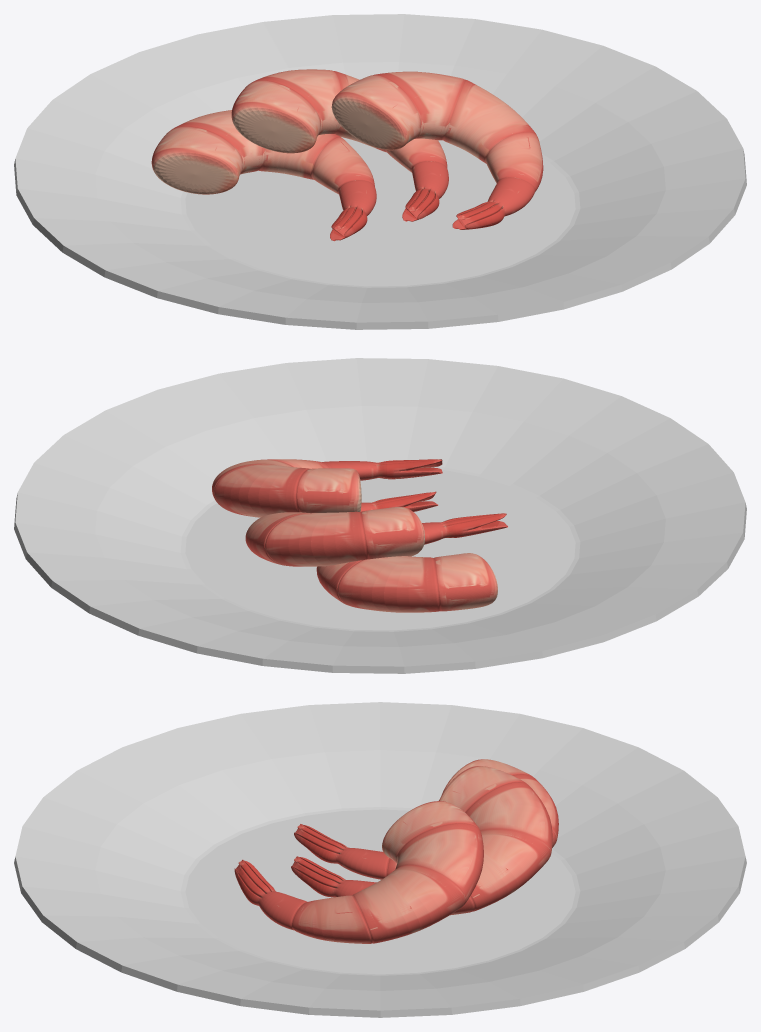
The model's file is grilled_trimmed_shrimp.fbx.
The picture shows the model from 3 angles, top to bottom: view 1: azimuth 30°, elevation 25°; view 2: azimuth 150°, elevation 25°; view 3: azimuth 270°, elevation 25°; orthographic projection.
Visible parts, largest first — view 1: 원형.019, 실린더.034; view 2: 원형.019, 실린더.034; view 3: 원형.019, 실린더.034.
Part boxes in pixels (box(x1,y1,x2,y2)): 원형.019: box(14, 14, 746, 329); 실린더.034: box(151, 69, 543, 241); 원형.019: box(14, 358, 746, 673); 실린더.034: box(212, 459, 507, 612); 원형.019: box(14, 702, 746, 1017); 실린더.034: box(234, 759, 558, 943).
Bounding box in the file's own units: 293 × 48.38 × 293.
